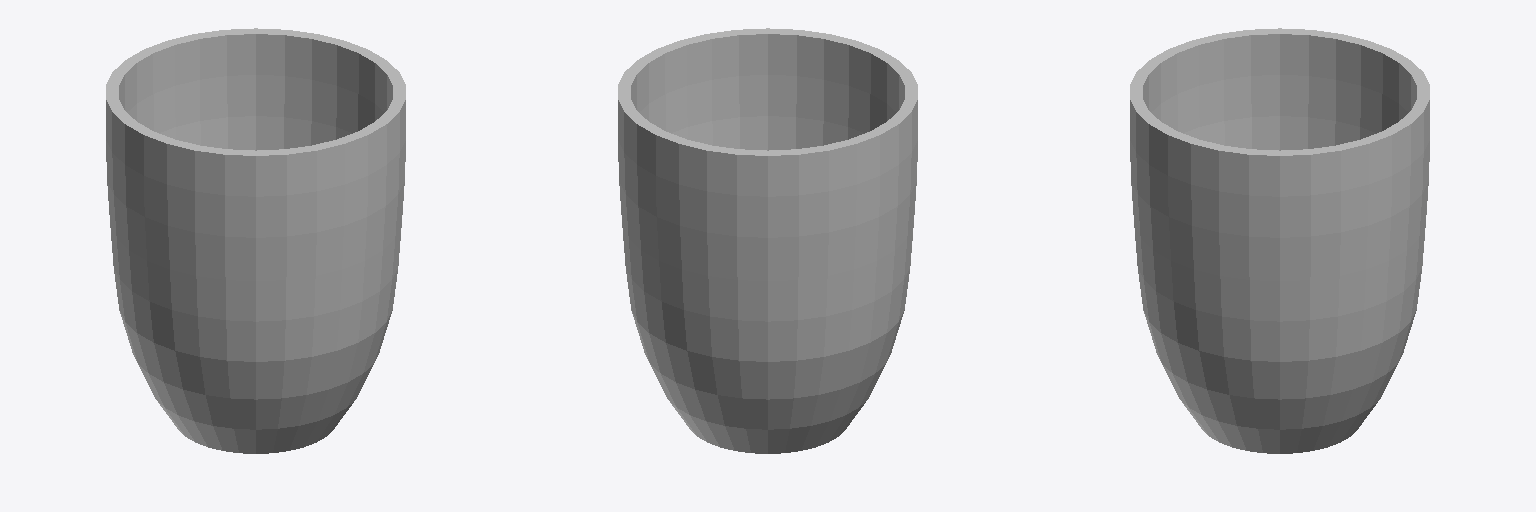
The model's file is cup.obj.
3 renders of one model, left to right at view 1: azimuth 30°, elevation 25°; view 2: azimuth 150°, elevation 25°; view 3: azimuth 270°, elevation 25°, orthographic.
Parts seen in each view (by area): view 1: pCylinder1; view 2: pCylinder1; view 3: pCylinder1.
Part boxes in pixels (x1,y1,x2,y2): pCylinder1: (106, 28, 405, 453); pCylinder1: (618, 28, 917, 453); pCylinder1: (1130, 28, 1429, 453).
Size of the model in its own units: 4.63 by 5.53 by 4.6.